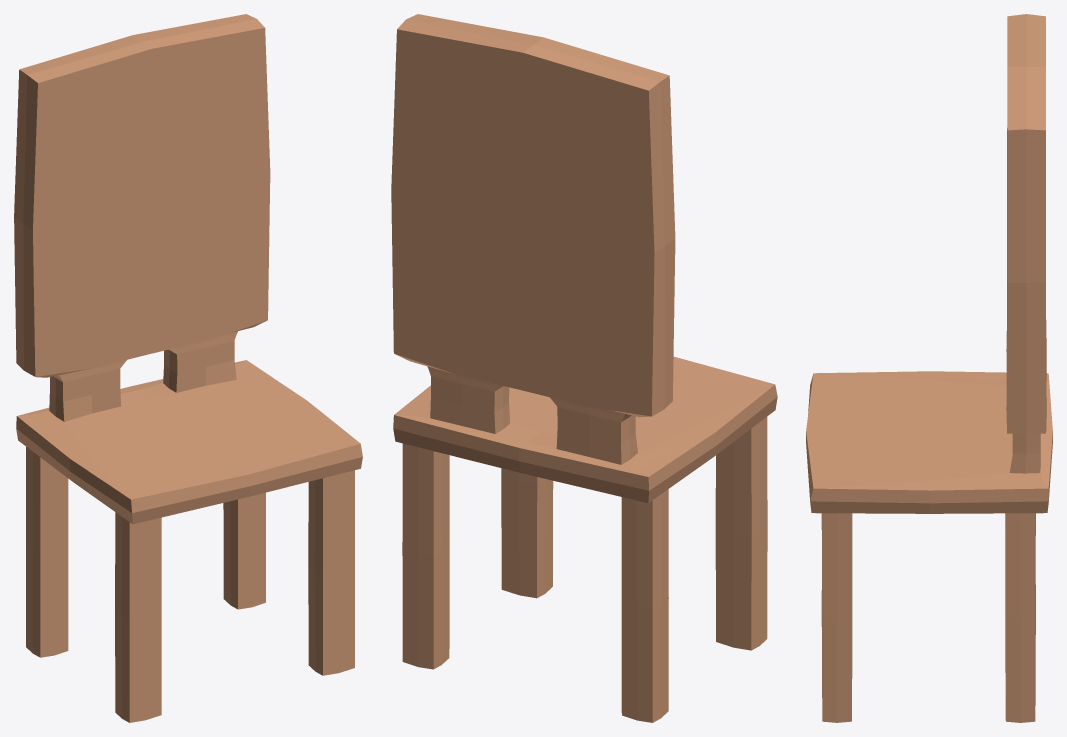
The model's file is chairlow.fbx.
The picture shows the model from 3 angles, left to right: view 1: azimuth 30°, elevation 25°; view 2: azimuth 150°, elevation 25°; view 3: azimuth 270°, elevation 25°; orthographic projection. The views are drawn at different scales.
Parts seen in each view (by area): view 1: Cube.001; view 2: Cube.001; view 3: Cube.001.
Part boxes in pixels (<box>): Cube.001: <box>14,14,362,722</box>; Cube.001: <box>391,14,777,722</box>; Cube.001: <box>806,14,1052,722</box>.
Bounding box in the file's own units: 83.63 × 195 × 72.8.
1 material, 1 textured.
